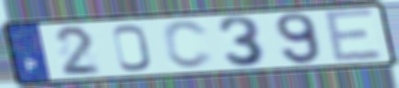0: (111, 23, 154, 73)
2: (53, 24, 104, 77)
3: (216, 15, 269, 70)
9: (274, 11, 323, 66)
C: (160, 19, 217, 71)
E: (320, 7, 386, 65)
